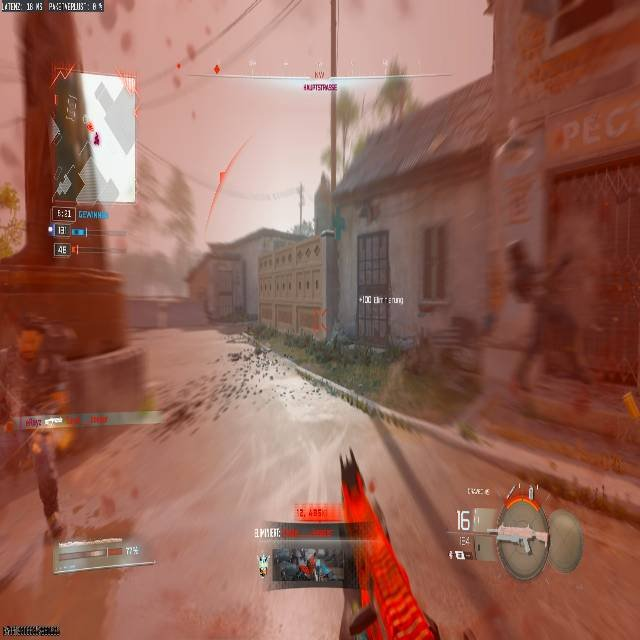head: (17, 325, 45, 359)
